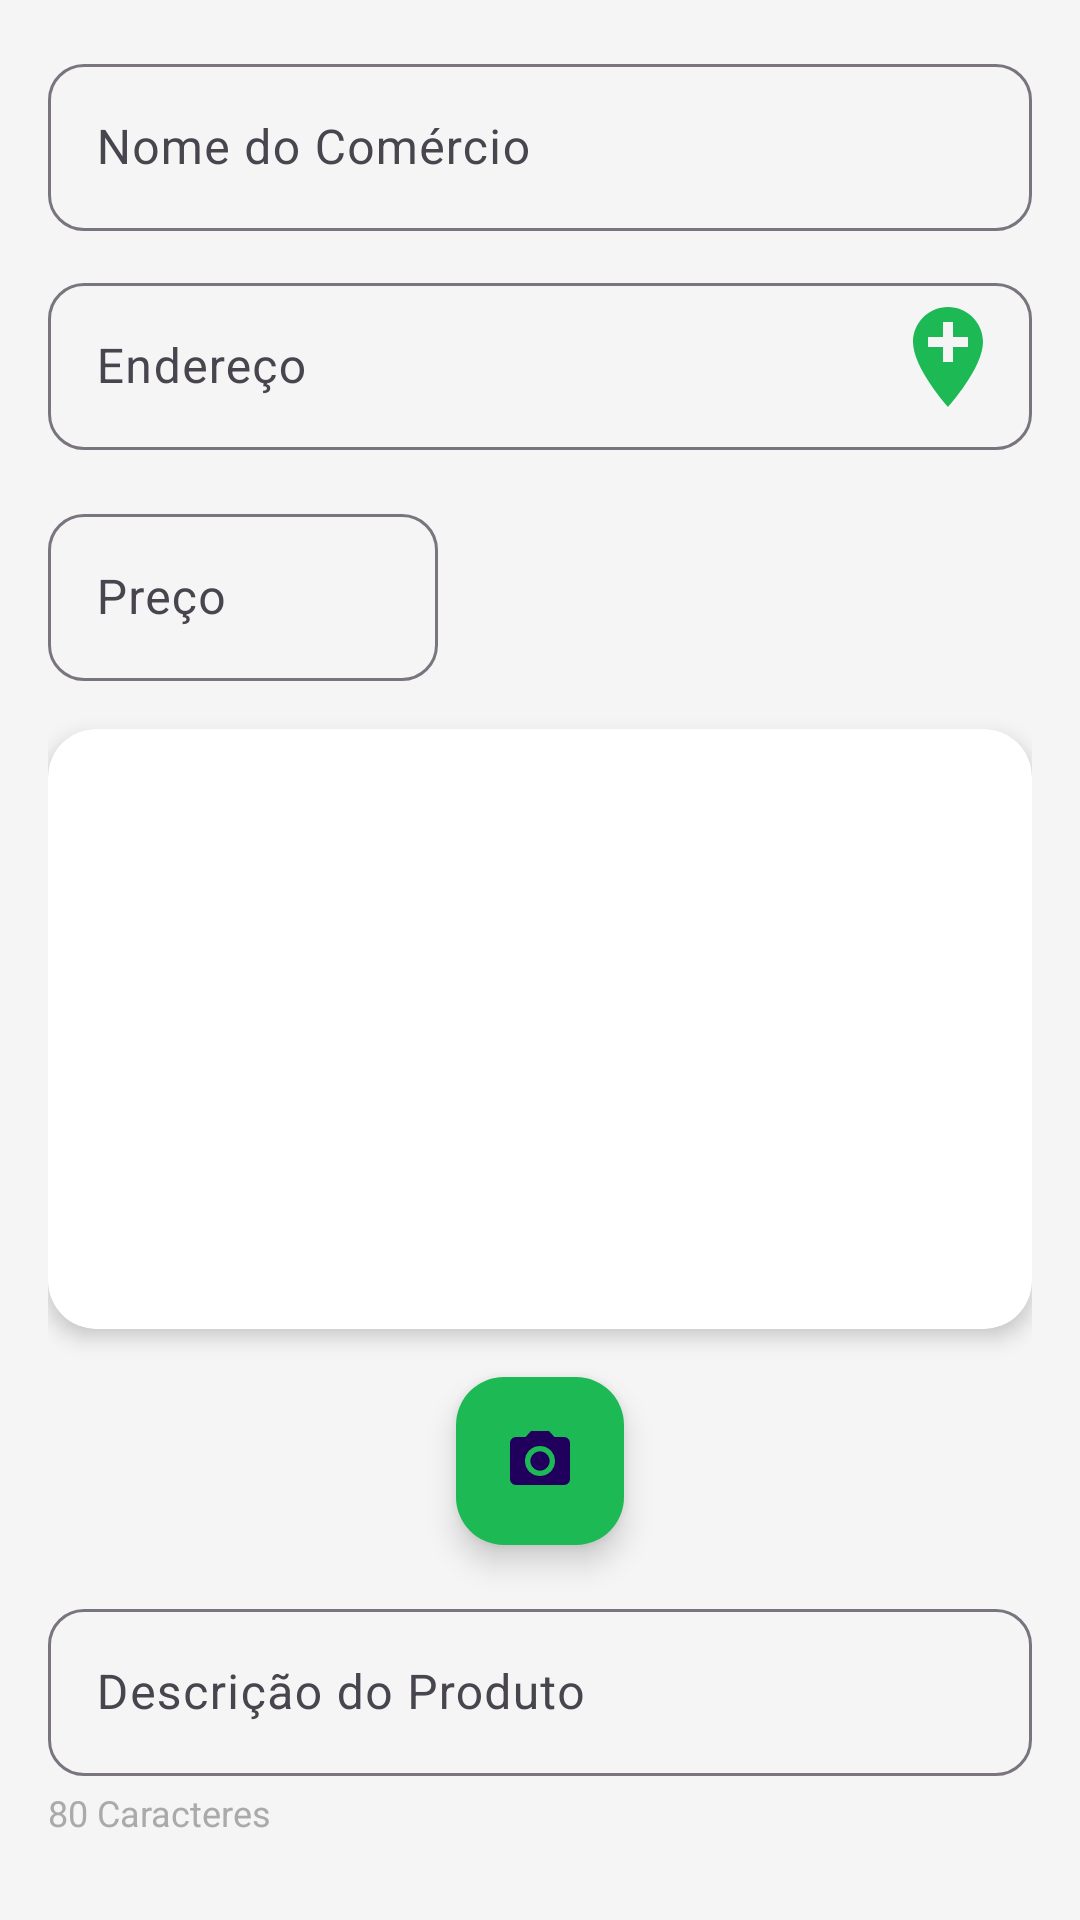

Icon bounding boxes for this 1080px×1920px phone screenshot, format Rect(x1, y1, x2, y2):
Abrir câmera para capturar foto: Rect(456, 1377, 624, 1545)
add location: Rect(913, 307, 983, 407)
